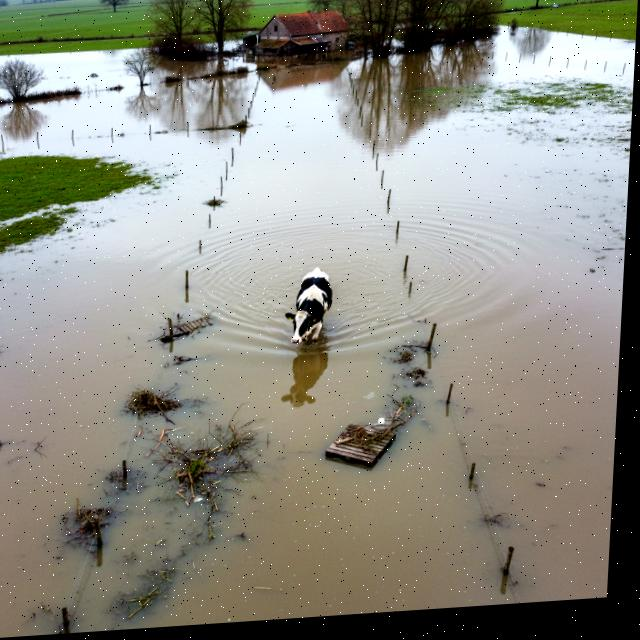cow: (274, 257, 346, 353)
